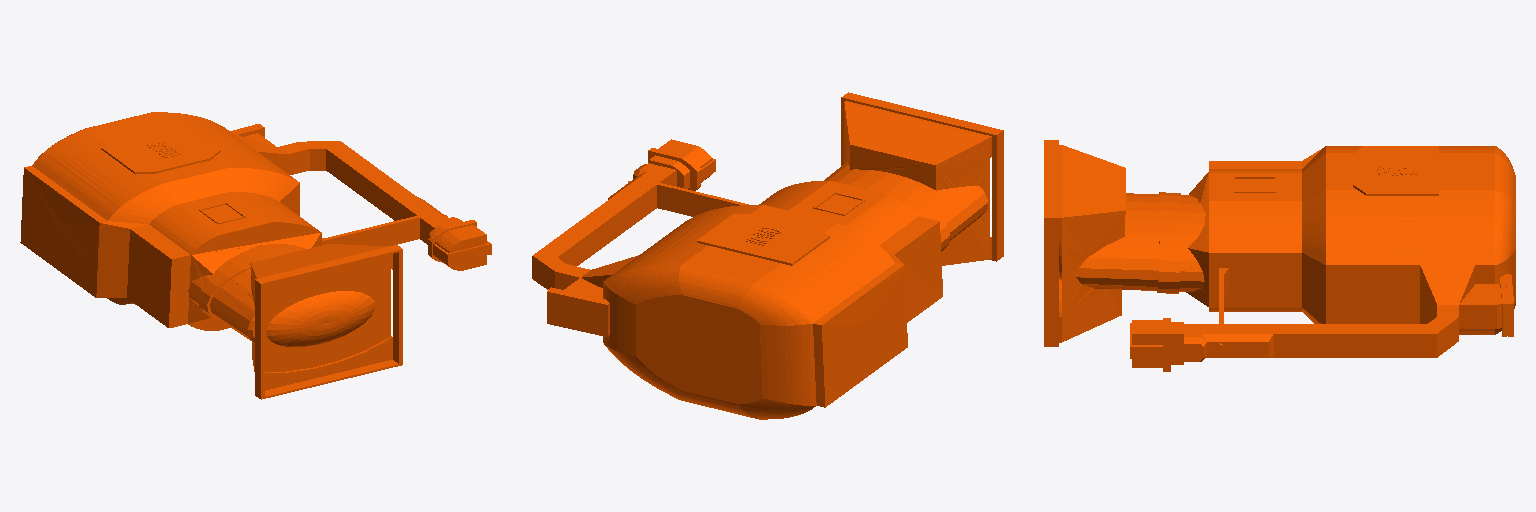
URDF robot description (2024-09-16_camera2):
<?xml version="1.0" ?>
<robot name="2024-09-16_camera2">
   <material name="obj_color">
      <color rgba="1.0 0.423529411765 0.0392156862745 1.0"/>
   </material>
   <link name="top">
      <inertial>
         <origin rpy="-0.001342055292620918 -0.001067293993350301 -0.000427500898501062" xyz="0.0439682245270823 0.005967522037907915 -0.0001539530309761564"/>
         <mass value="-0.5354808975352063"/>
         <inertia ixx="-0.001067075691570054" ixy="-1.203279391536085e-05" ixz="1.589863556680471e-06" iyy="-0.000427757654240042" iyz="-5.240504178572182e-06" izz="-0.001342016838662185"/>
      </inertial>
      <visual>
         <origin rpy="0 0 0" xyz="0 0 0"/>
         <geometry>
            <mesh filename="top_watertight_tiny.stl" scale="1 1 1"/>
         </geometry>
         <material name="obj_color"/>
      </visual>
      <collision>
         <origin rpy="0 0 0" xyz="0 0 0"/>
         <geometry>
            <mesh filename="top_watertight_tiny.obj" scale="1 1 1"/>
         </geometry>
      </collision>
   </link>
   <link name="bottom">
      <inertial>
         <origin rpy="1.633333333199431e-08 1.633333333199431e-08 1.633333333362855e-08" xyz="0.3464080000000008 0.3464080000000008 0.3464080000000008"/>
         <mass value="0.0009800000000000017"/>
         <inertia ixx="1.633333333253906e-08" ixy="5.447480642029219e-19" ixz="5.447480642029219e-19" iyy="1.633333333253906e-08" iyz="5.447480642029219e-19" izz="1.633333333253906e-08"/>
      </inertial>
      <visual>
         <origin rpy="0 0 0" xyz="0 0 0"/>
         <geometry>
            <mesh filename="bottom_watertight_tiny.stl" scale="1 1 1"/>
         </geometry>
         <material name="obj_color"/>
      </visual>
   </link>
   <link name="world"/>
   <joint name="world_to_base" type="fixed">
      <origin xyz="0 0 0"/>
      <axis xyz="0 0 0"/>
      <parent link="world"/>
      <child link="bottom"/>
   </joint>
   <joint name="rotation" type="revolute">
      <origin xyz="0 0 0"/>
      <axis xyz="0 0 -1"/>
      <parent link="bottom"/>
      <child link="top"/>
      <dynamics damping="1.0" friction="1.0"/>
      <limit effort="0.1" velocity="0.1" lower="0" upper="0.001"/>
   </joint>
</robot>

--- What the picture shows (computed from the rendered views, not written in the file) ---
3 views of the same robot in one strip: view 1: azimuth 30°, elevation 25°; view 2: azimuth 150°, elevation 25°; view 3: azimuth 270°, elevation 25° (orthographic).
Model 2024-09-16_camera2 with 3 links and 2 joints (1 revolute, 1 fixed), rooted at world, posed all joints at 0.
Visible links, largest first — view 1: top; view 2: top; view 3: top.
Link boxes in pixels (<box>): top: <box>20,112,491,399</box>; top: <box>532,92,1003,419</box>; top: <box>1044,140,1515,371</box>.
Size in the robot's own frame: 0.124 by 0.1474 by 0.0486 metres.
1 mesh visuals loaded from 2 distinct referenced files (1 binary STL); not drawn: 1 (reference not matched to a file when rendering).
